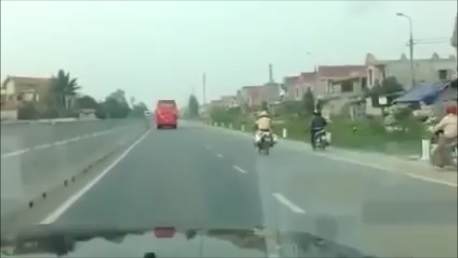police: (249, 107, 280, 159)
